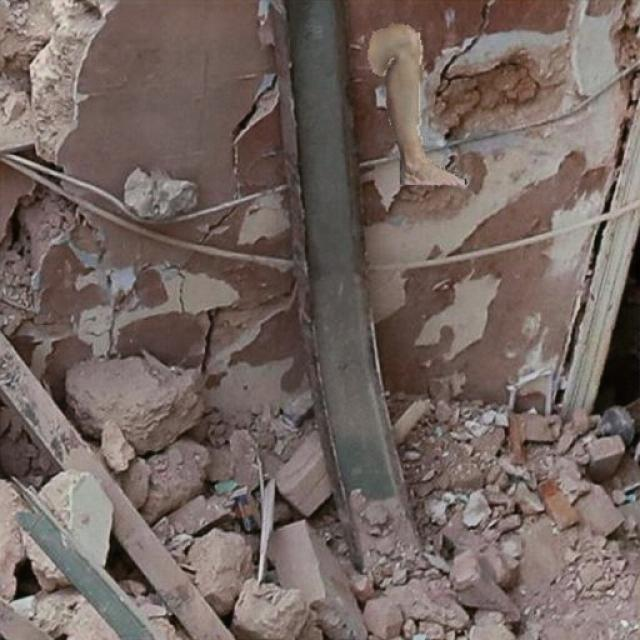Person in Rubble: (367, 22, 465, 184)
